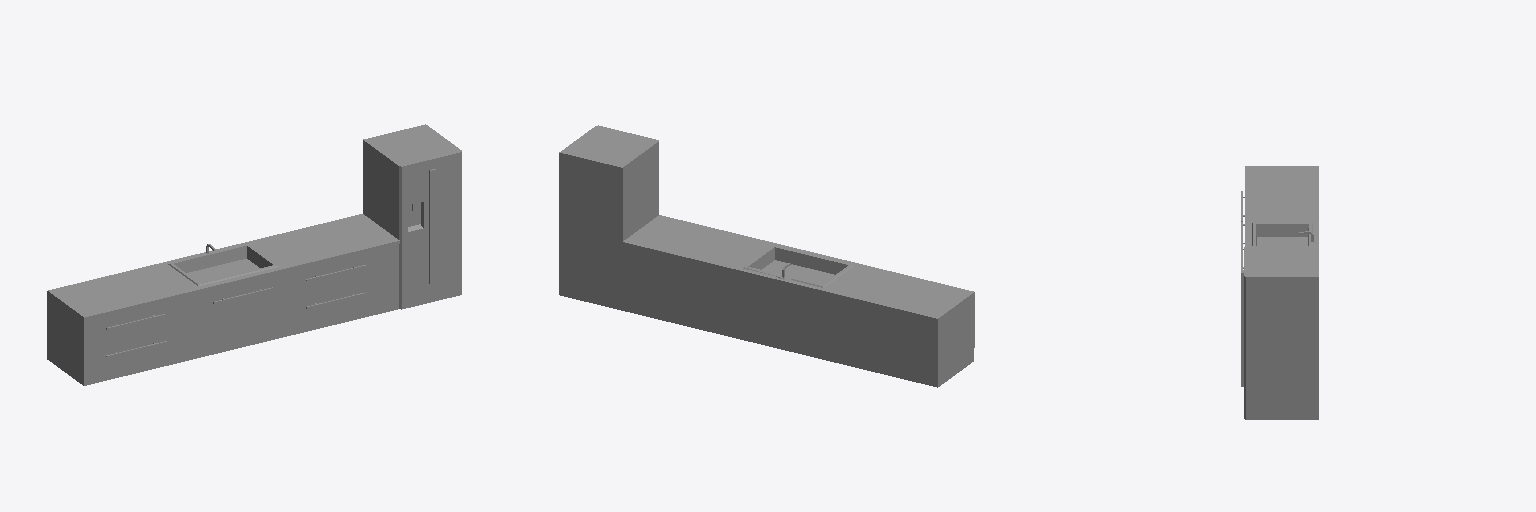
The model's file is pia_geladeira.obj.
The picture shows the model from 3 angles: view 1: azimuth 30°, elevation 25°; view 2: azimuth 150°, elevation 25°; view 3: azimuth 270°, elevation 25°; orthographic projection.
Parts seen in each view (by area): view 1: pia_geladeira_pia_Cube_Cube.000; view 2: pia_geladeira_pia_Cube_Cube.000; view 3: pia_geladeira_pia_Cube_Cube.000.
Boxes of the visible parts, x1=… form: pia_geladeira_pia_Cube_Cube.000: x1=47, y1=124, x2=461, y2=385; pia_geladeira_pia_Cube_Cube.000: x1=559, y1=125, x2=974, y2=387; pia_geladeira_pia_Cube_Cube.000: x1=1241, y1=166, x2=1318, y2=419.
Size of the model in its own units: 7.83 by 2.82 by 1.38.